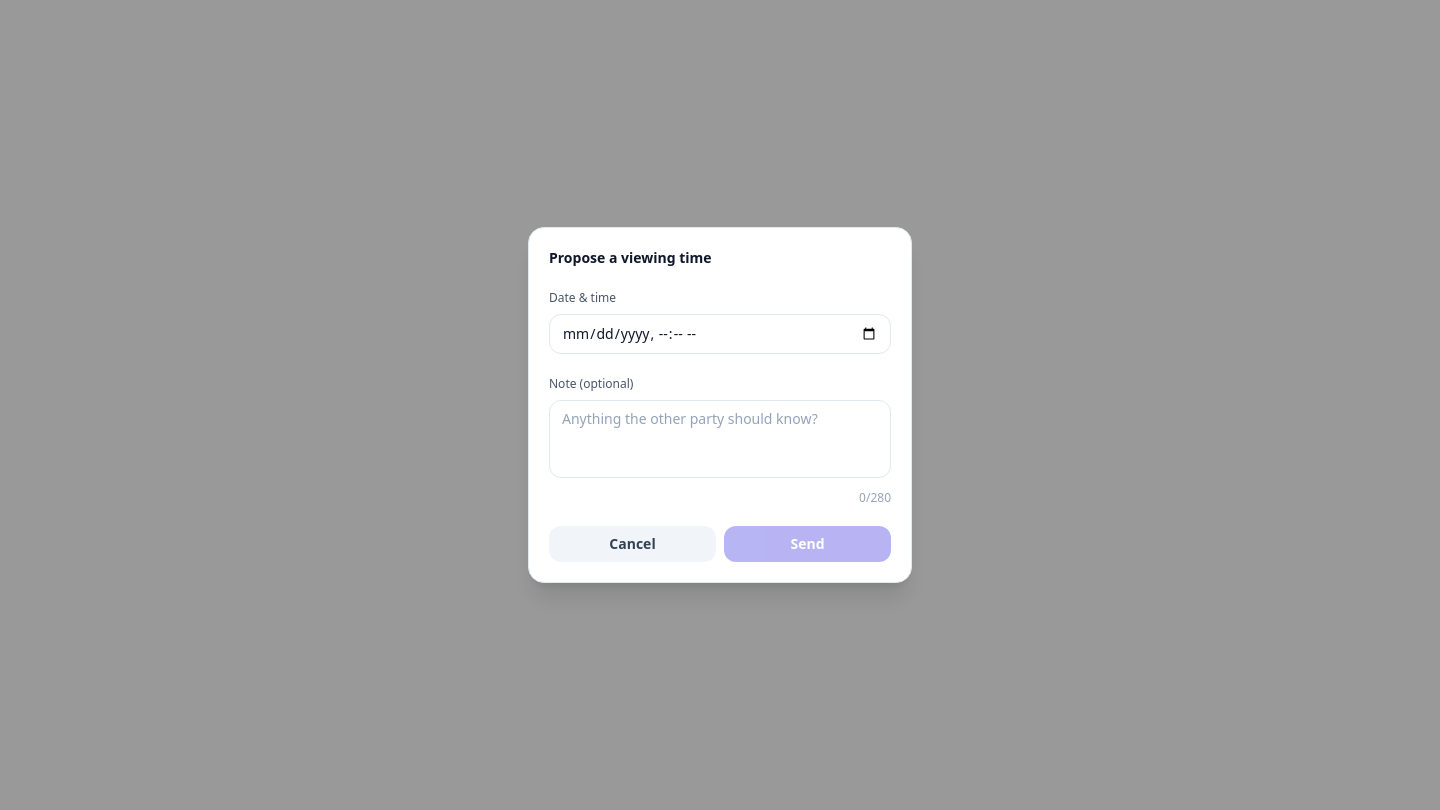
ProposeViewingModal › shows a character counter for the note
In the text box labelled "Note (optional)": (720, 439) [549,400,891,478], type "hello"
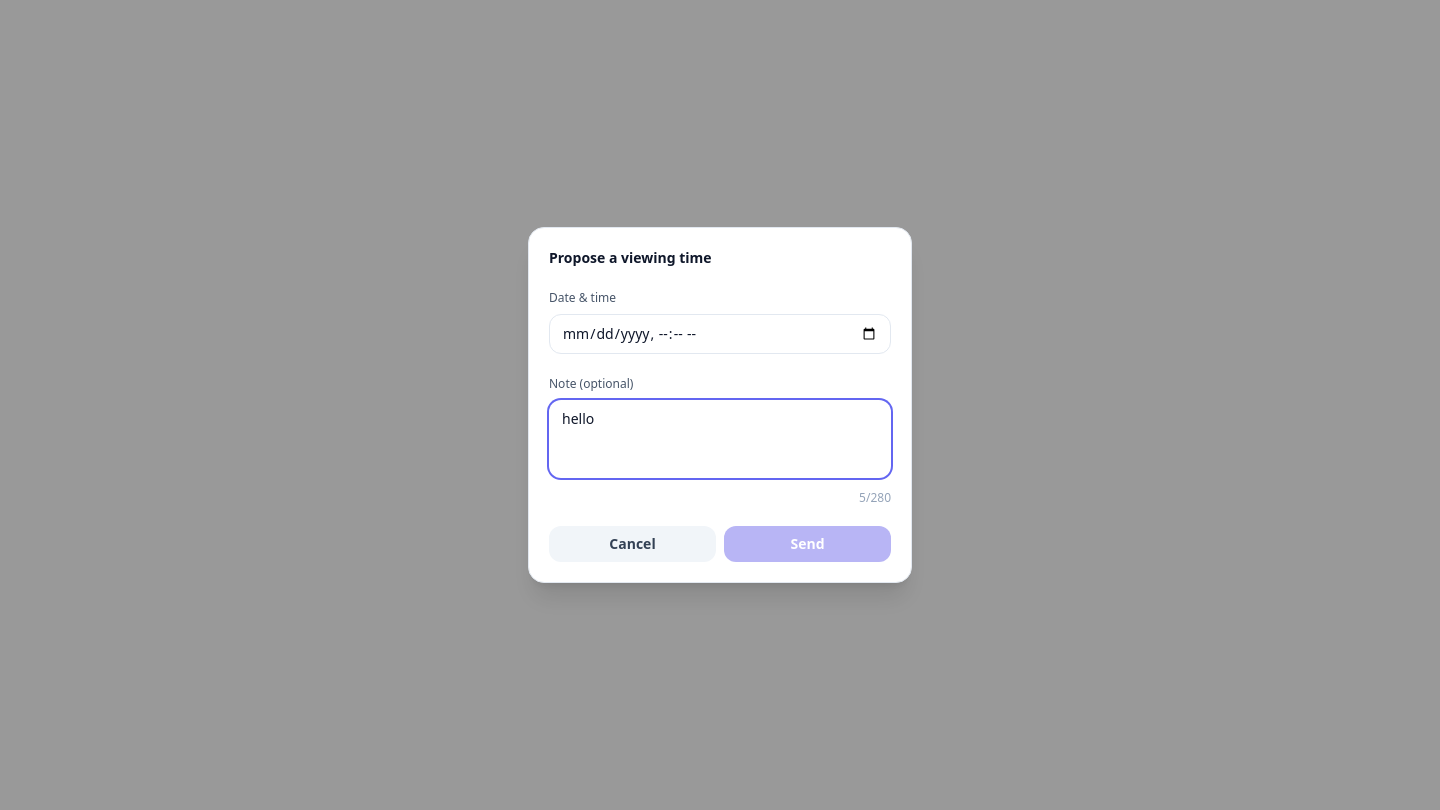
Check: the text "5/280" is shown, box [859,489,891,506]
